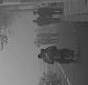person: (38, 47, 77, 64), (31, 17, 63, 26), (33, 7, 63, 16), (33, 38, 61, 46), (35, 31, 59, 38)
